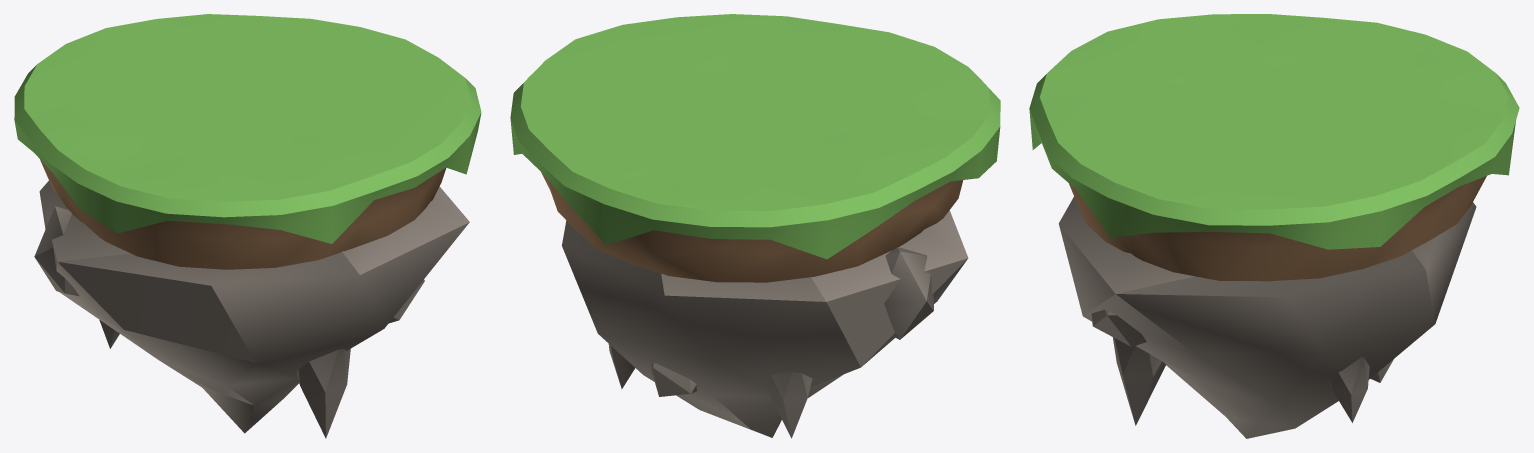
The model's file is island-3.glb.
The picture shows the model from 3 angles, left to right: view 1: azimuth 30°, elevation 25°; view 2: azimuth 150°, elevation 25°; view 3: azimuth 270°, elevation 25°; orthographic projection. The views are drawn at different scales.
Parts seen in each view (by area): view 1: island; view 2: island; view 3: island.
Boxes of the visible parts, x1,y1,x2,y2 form: island: (14,14,481,438); island: (510,14,1000,438); island: (1029,14,1519,438).
Bounding box in the file's own units: 2.08 × 1.59 × 2.1.
